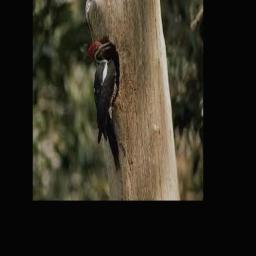Woodpecker: (88, 40, 121, 171)
